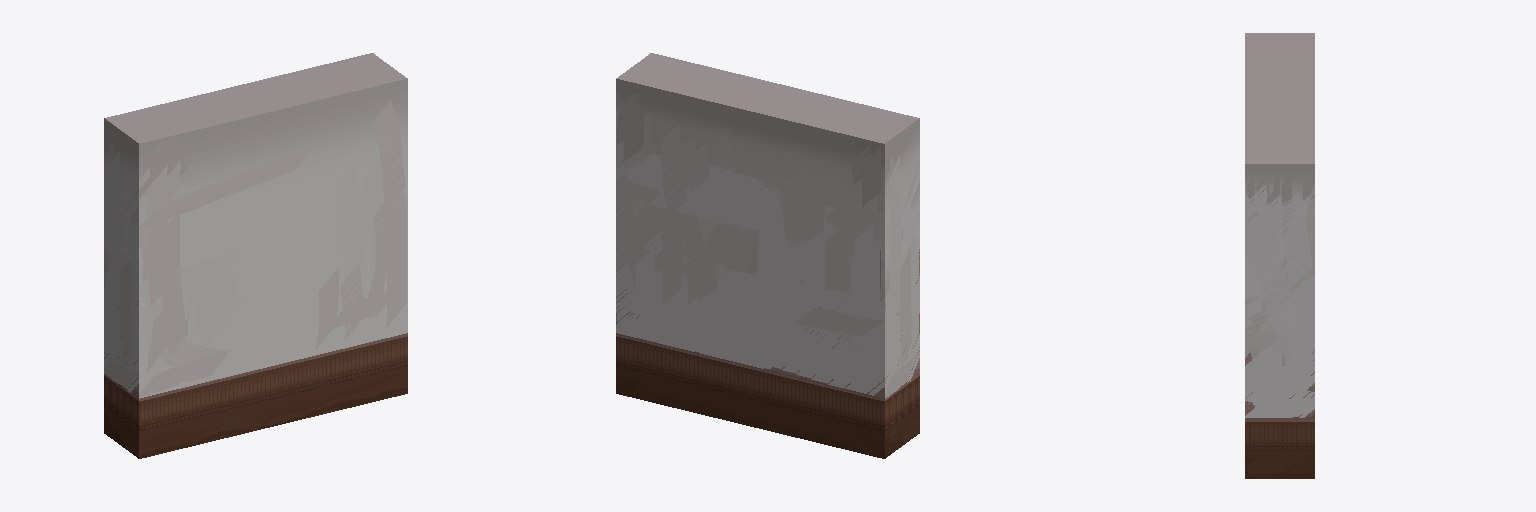
The picture shows the model from 3 angles: view 1: azimuth 30°, elevation 25°; view 2: azimuth 150°, elevation 25°; view 3: azimuth 270°, elevation 25°; orthographic projection.
Visible parts, largest first — view 1: cuboid; view 2: cuboid; view 3: cuboid.
Part boxes in pixels (x1,y1,x2,y2): cuboid: (104, 53, 407, 458); cuboid: (616, 53, 919, 458); cuboid: (1245, 33, 1314, 478).
Bounding box in the file's own units: 8.25 × 9.27 × 1.88.
Materials: 1 (1 with a texture image).